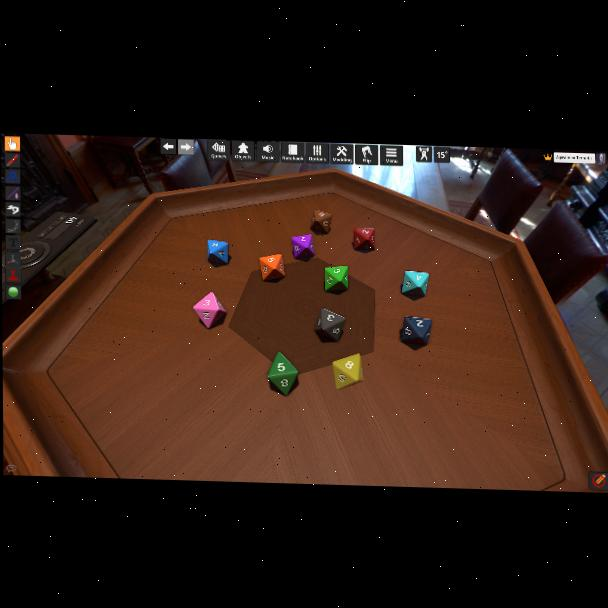d8: (267, 352, 298, 396), (194, 291, 227, 329), (333, 353, 363, 391), (316, 307, 346, 342), (400, 316, 431, 347), (400, 270, 428, 298), (259, 253, 285, 281), (324, 264, 348, 292), (207, 240, 228, 265), (353, 227, 374, 252), (290, 235, 311, 259), (311, 211, 332, 234)
